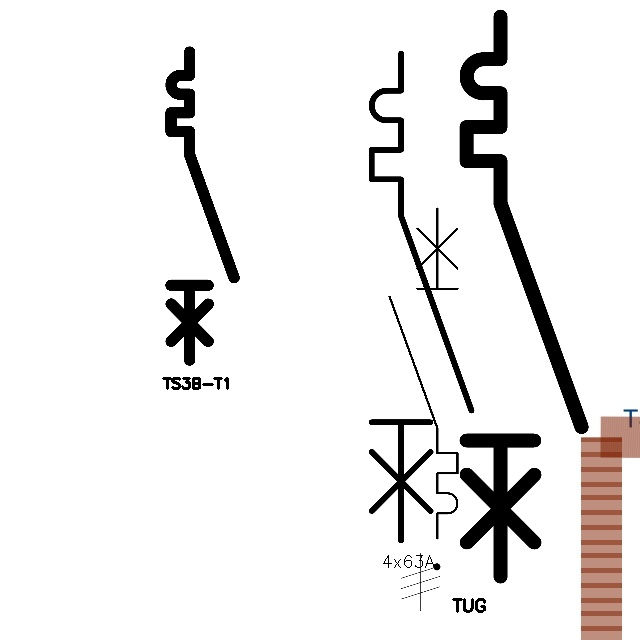interruptor_termomagnetico: (452, 2, 596, 591), (359, 41, 484, 553), (381, 200, 466, 547), (163, 44, 242, 368)
